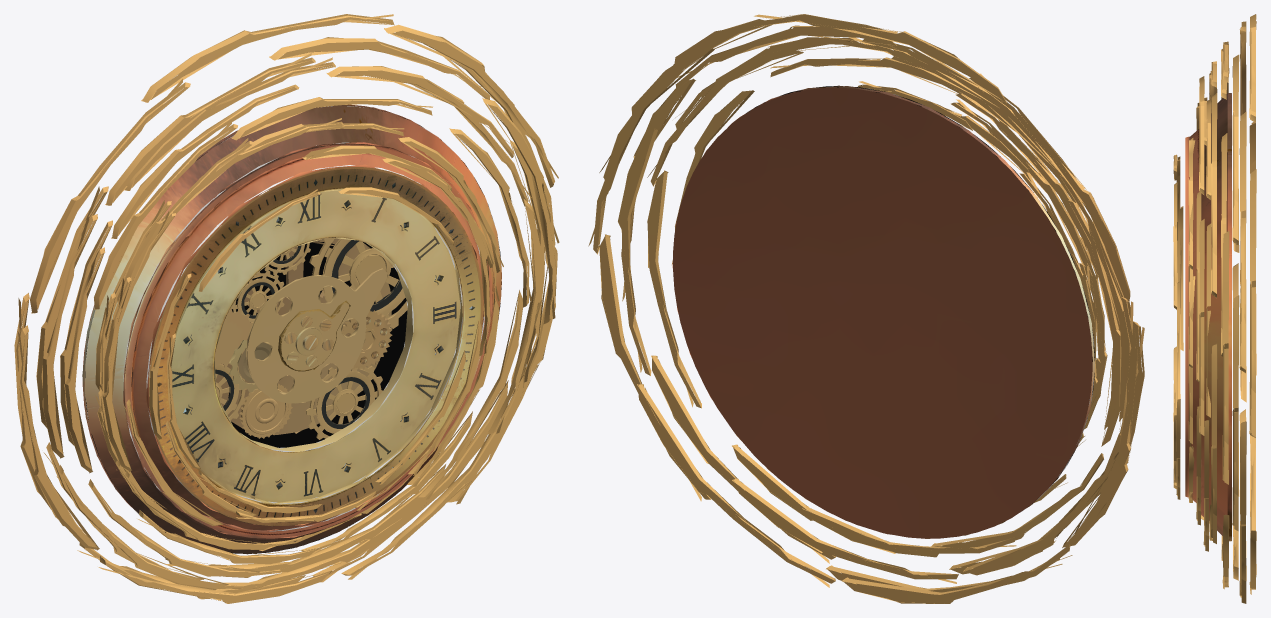
File: zafkiel.glb
The picture shows the model from 3 angles, left to right: view 1: azimuth 30°, elevation 25°; view 2: azimuth 150°, elevation 25°; view 3: azimuth 270°, elevation 25°; orthographic projection. The views are drawn at different scales.
Visible parts, largest first — view 1: Zafkiel, Outside, Middle, Inner, Circle.001, Zafkiel.001, Circle.012, Circle.014, Circle.010, Circle, Circle.002, Circle.007 (+3 smaller); view 2: Zafkiel.001, Outside, Middle; view 3: Outside, Zafkiel, Middle, Inner, Zafkiel.001.
Part boxes in pixels (x1,y1,x2,y2): Zafkiel: [85, 105, 501, 554]; Outside: [14, 14, 559, 603]; Middle: [60, 84, 531, 577]; Inner: [149, 158, 493, 522]; Circle.001: [246, 268, 388, 403]; Zafkiel.001: [82, 104, 501, 553]; Circle.012: [309, 238, 407, 330]; Circle.014: [215, 238, 391, 434]; Circle.010: [306, 365, 382, 439]; Circle: [278, 300, 350, 371]; Circle.002: [239, 383, 292, 438]; Circle.007: [214, 308, 253, 367]; Zafkiel.001: [672, 86, 1094, 538]; Outside: [588, 14, 1144, 603]; Middle: [672, 56, 1122, 557]; Outside: [1211, 14, 1256, 603]; Zafkiel: [1185, 93, 1227, 535]; Middle: [1188, 61, 1222, 560]; Inner: [1173, 154, 1193, 499]; Zafkiel.001: [1227, 93, 1231, 541].
Bounding box in the file's own units: 6.05 × 6.04 × 0.86.
1 material, 1 textured.
